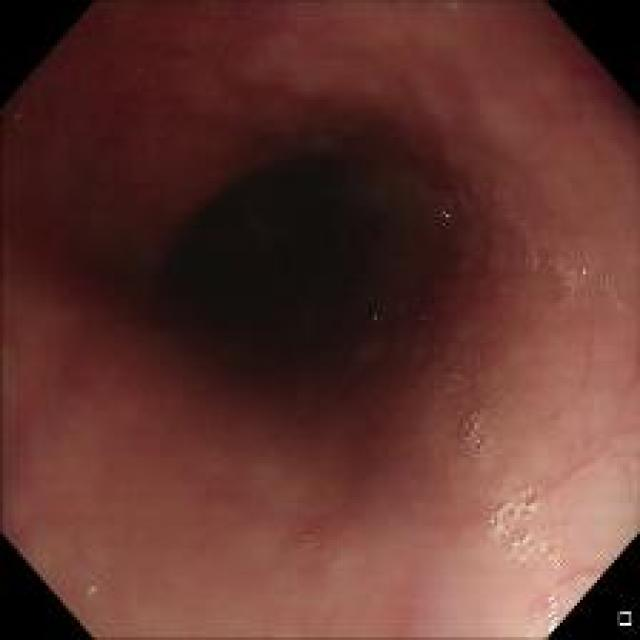bubbles: (490, 488, 564, 579), (538, 254, 621, 312), (455, 396, 500, 465), (531, 592, 568, 635), (431, 201, 452, 225), (296, 528, 318, 549), (521, 244, 538, 269), (390, 334, 409, 352), (366, 308, 384, 324)
color misalignment: (80, 578, 108, 599)
contrast: (112, 138, 498, 442)
